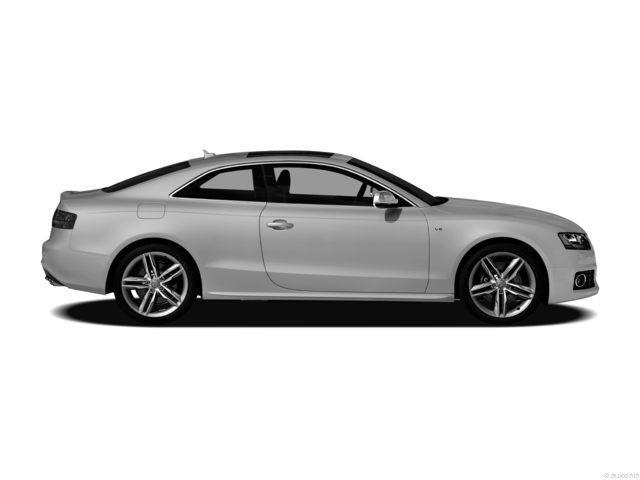car: (42, 147, 600, 325)
